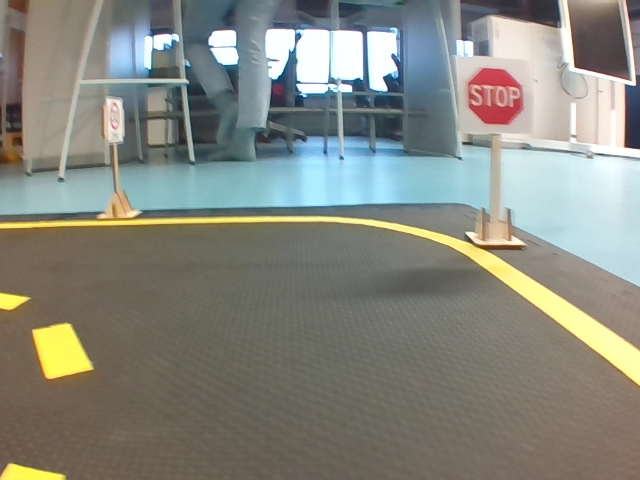30: (106, 98, 124, 142)
stop: (458, 57, 533, 132)
